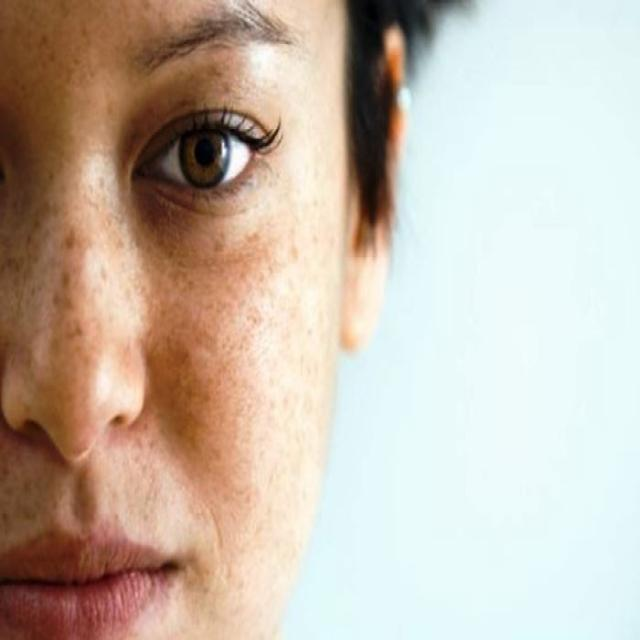Dark-Spots: (2, 2, 336, 640)
